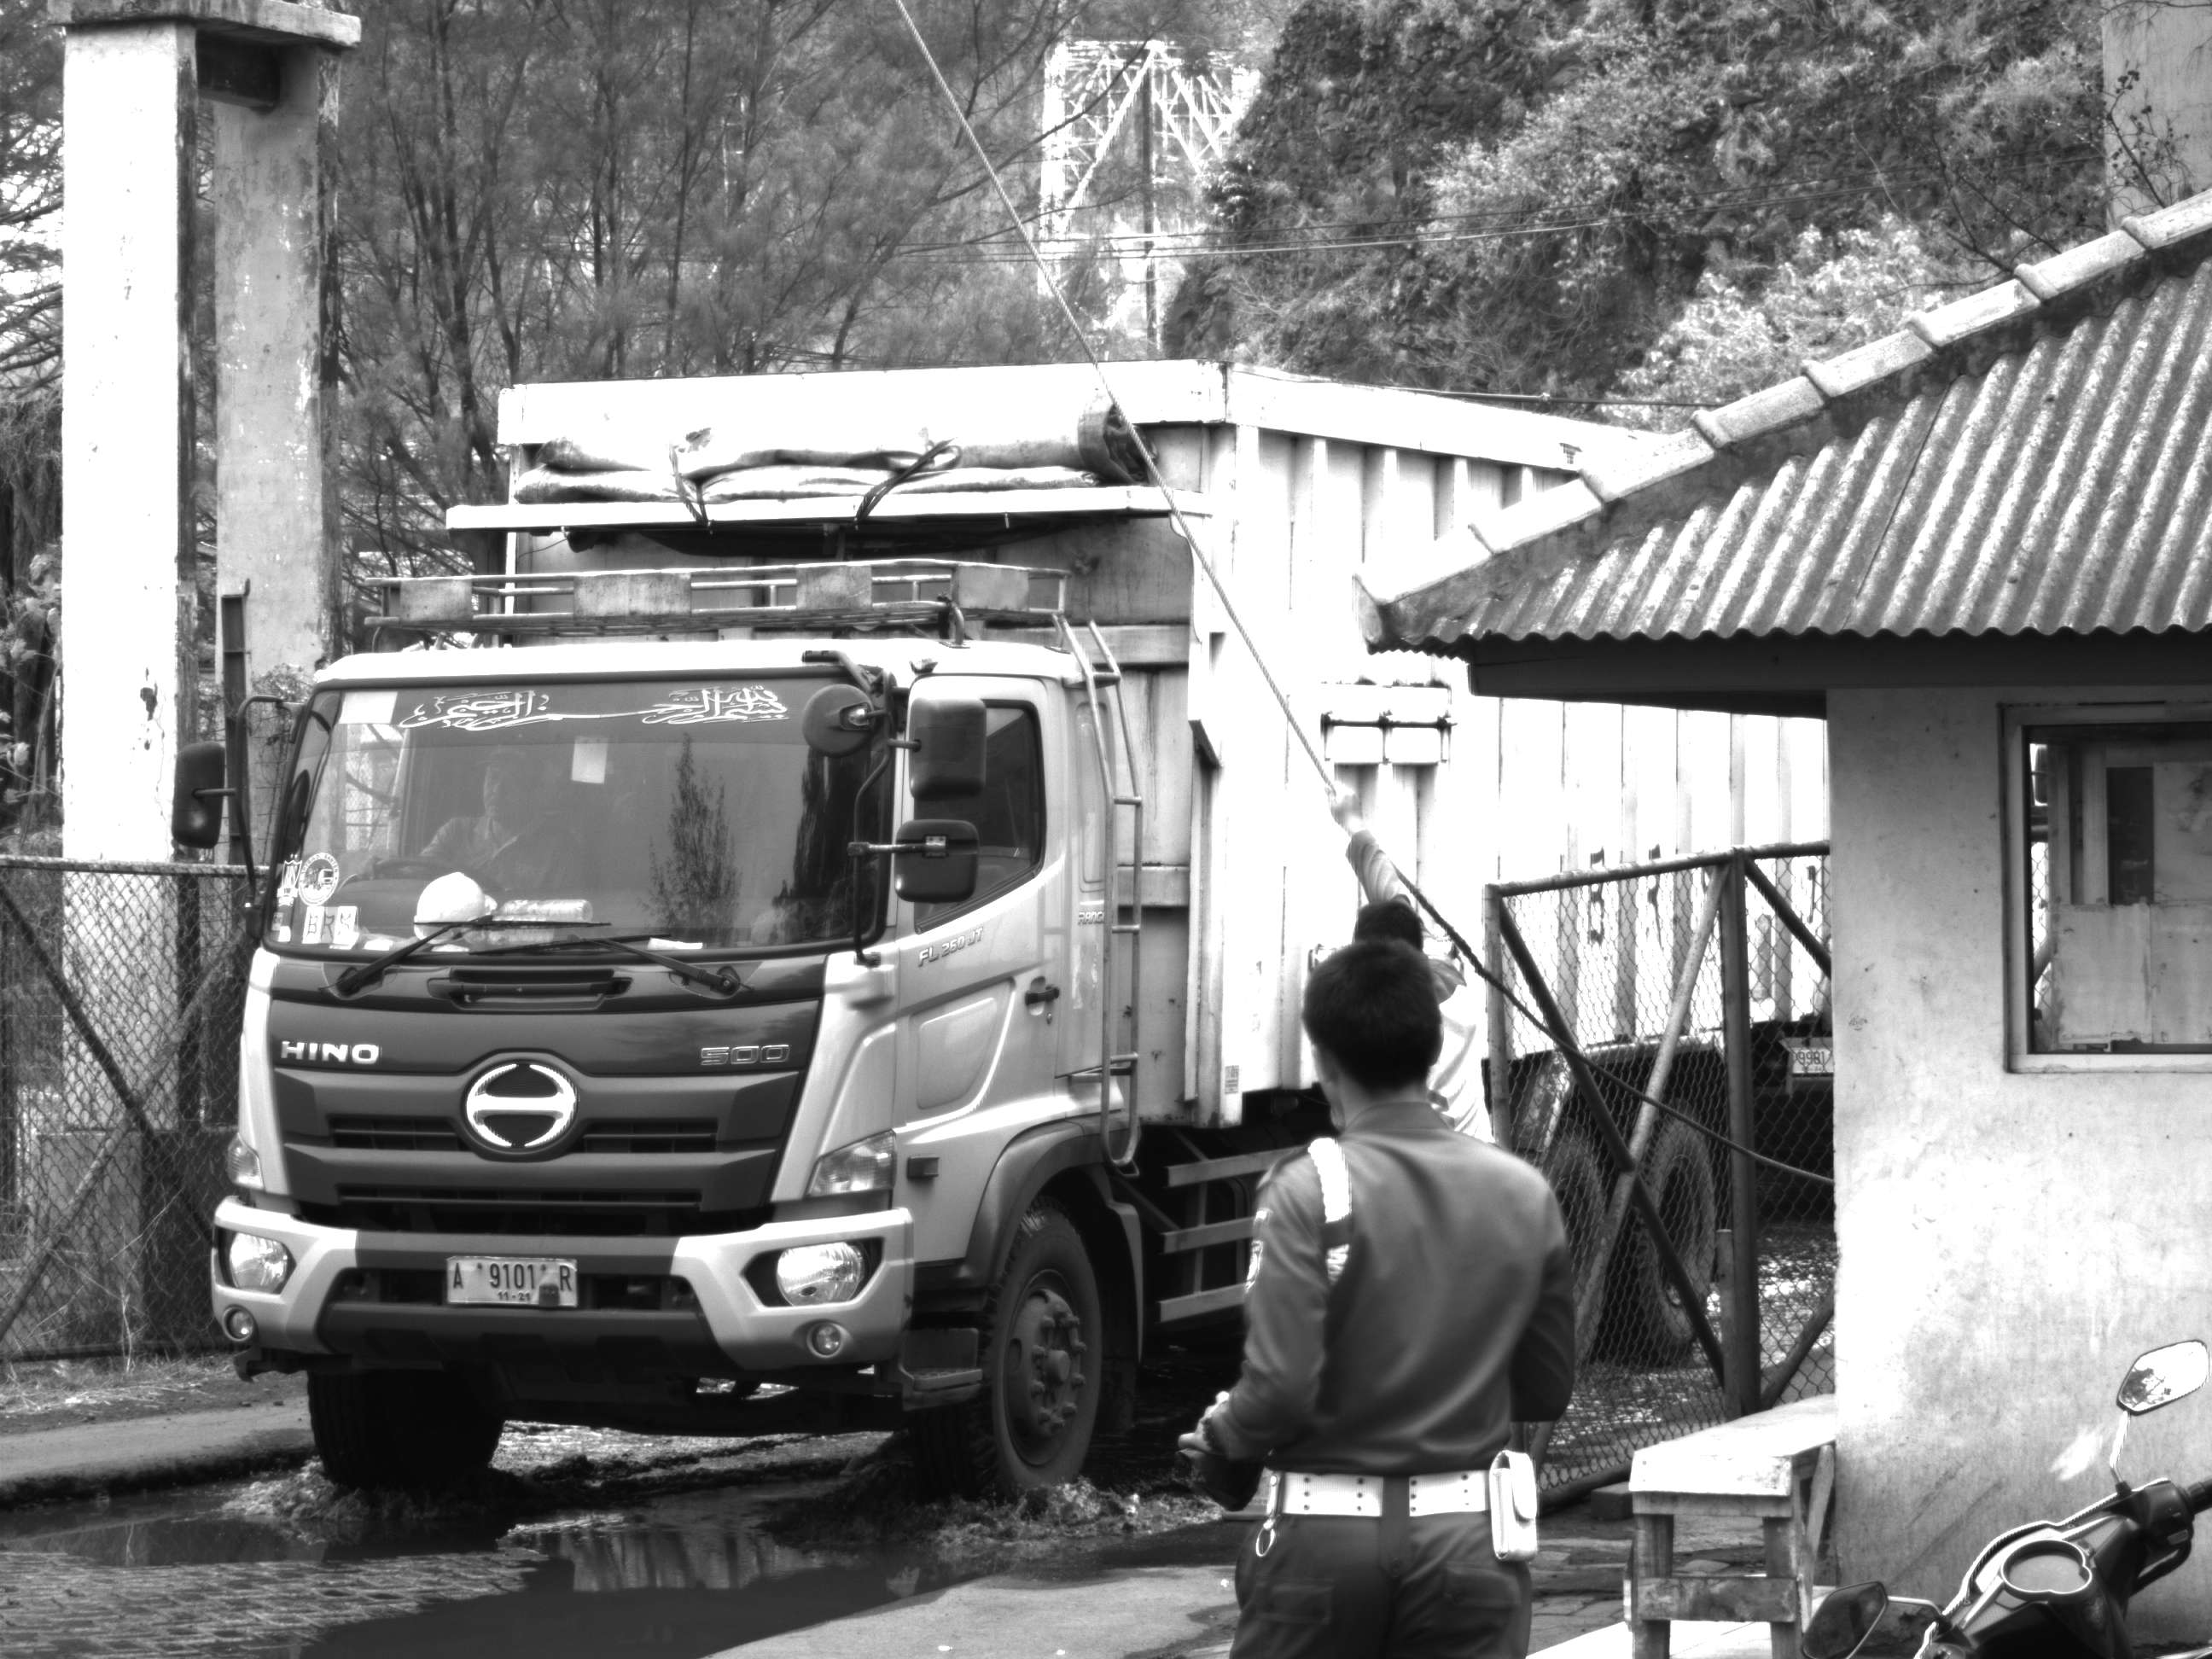day_truck_front: (190, 386, 1191, 1490)
plate: (439, 1247, 587, 1319)
